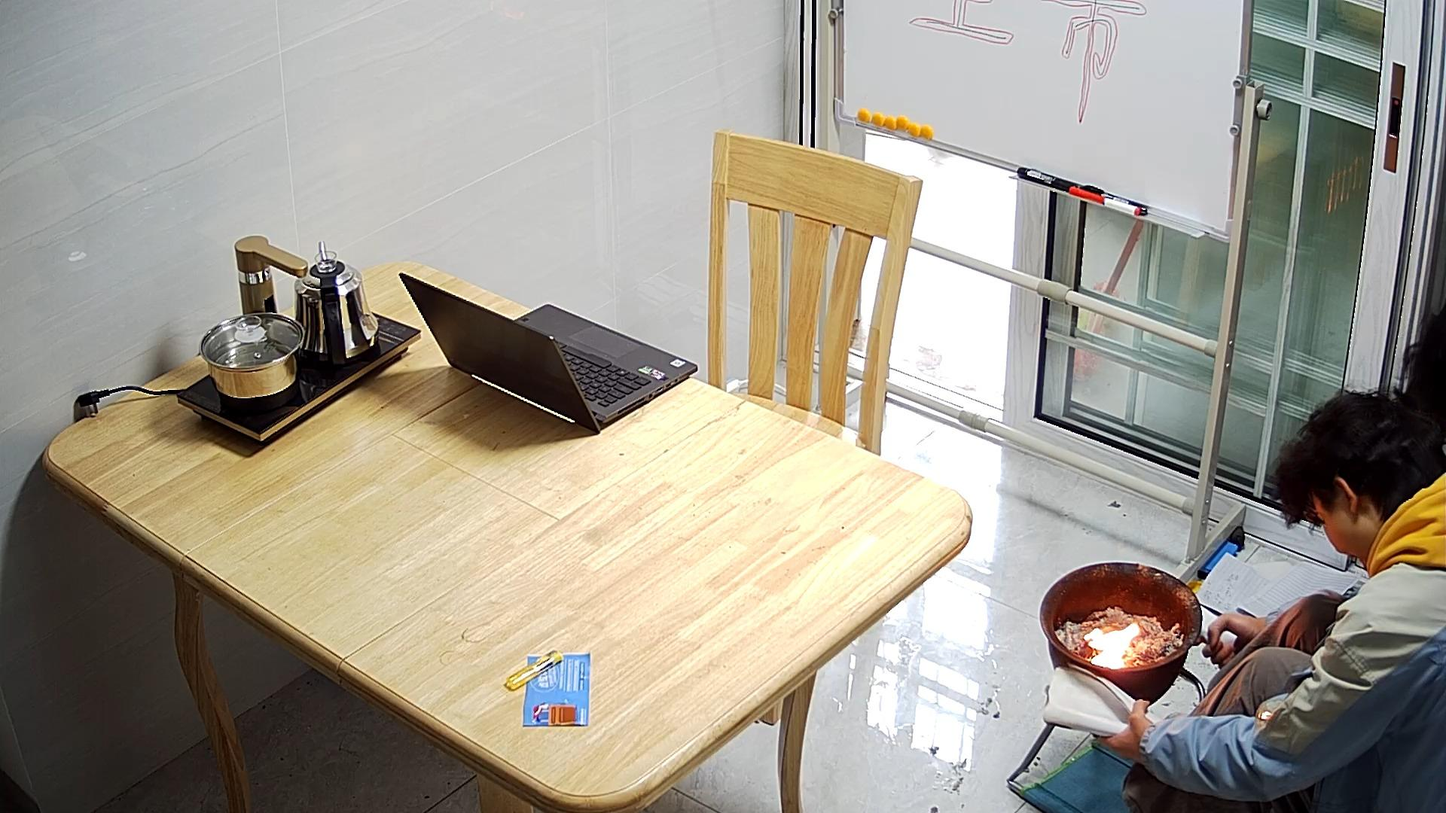fire: (1085, 623, 1139, 668)
